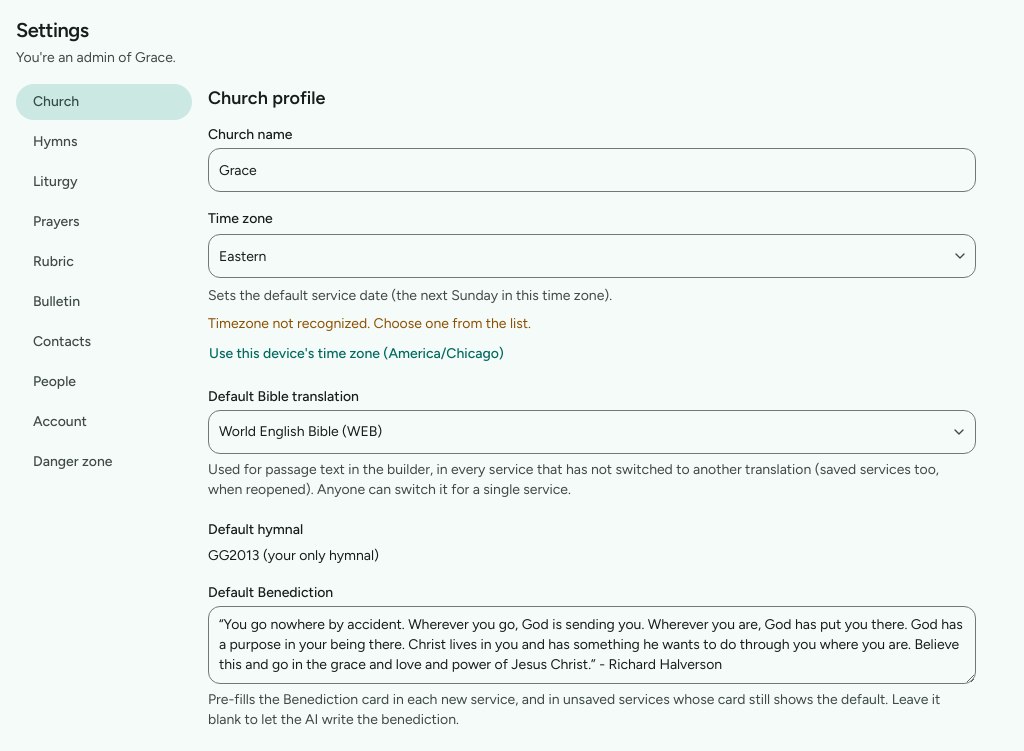
Test case: Settings → Church (slice 6a-1) › shows a stored time zone it does not recognize, with the warning, and offers this device's zone
This screenshot has width=1024, height=751.
Check: the dropdown labelled "Time zone" holds "Eastern", box x1=209 y1=235 x2=948 y2=277
Check: the text "Timezone not recognized. Choose one from the list." is shown, box x1=208 y1=315 x2=531 y2=332
Click the button "Use this device's time zone (America/Chicago)" at (356, 354), box x1=208 y1=338 x2=505 y2=370
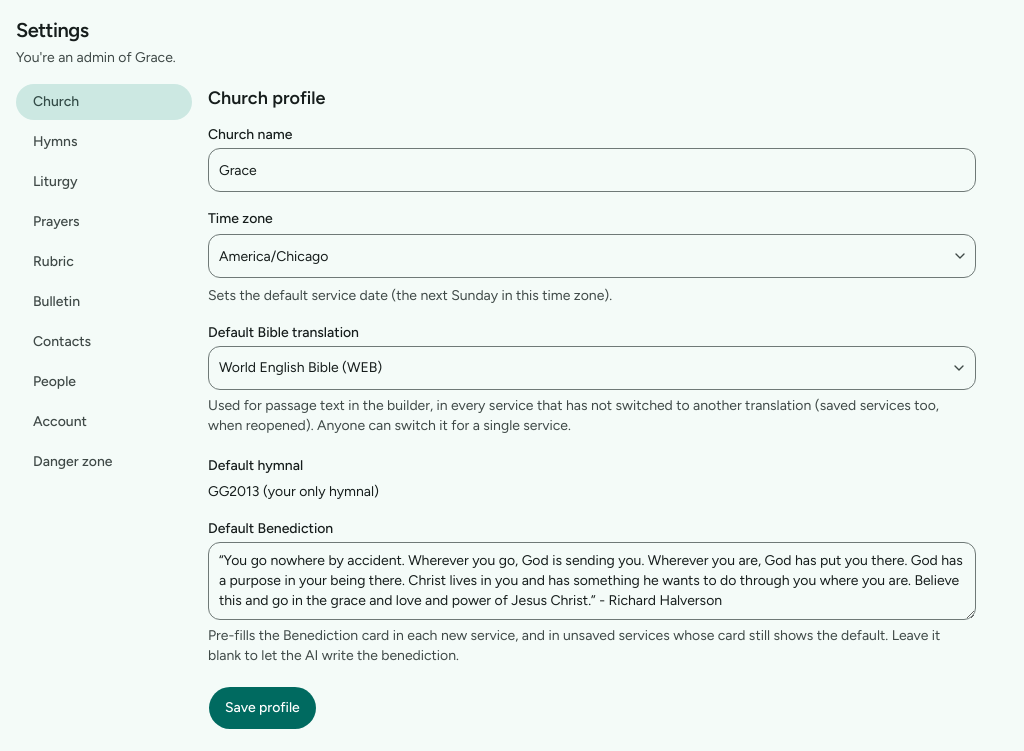
Check: the dropdown labelled "Time zone" holds "America/Chicago", box x1=209 y1=235 x2=948 y2=277
Check: the text "Timezone not recognized. Choose one from the list." is gone
